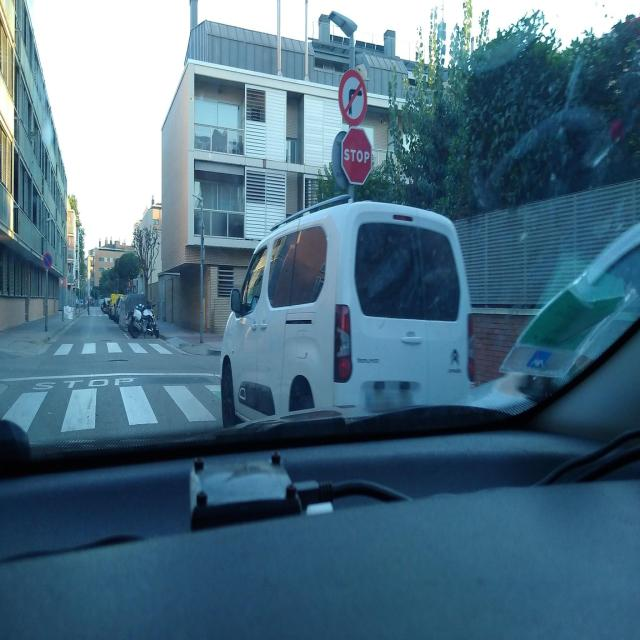forb_stopping: (42, 253, 53, 270)
